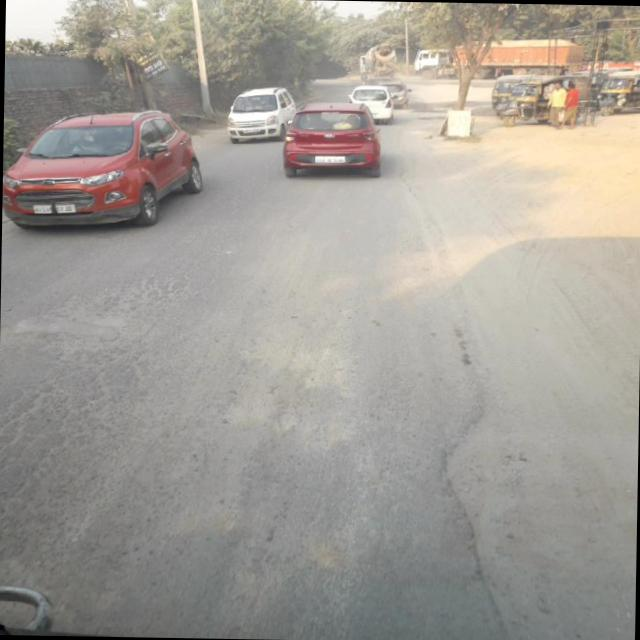crack: (0, 234, 400, 629)
